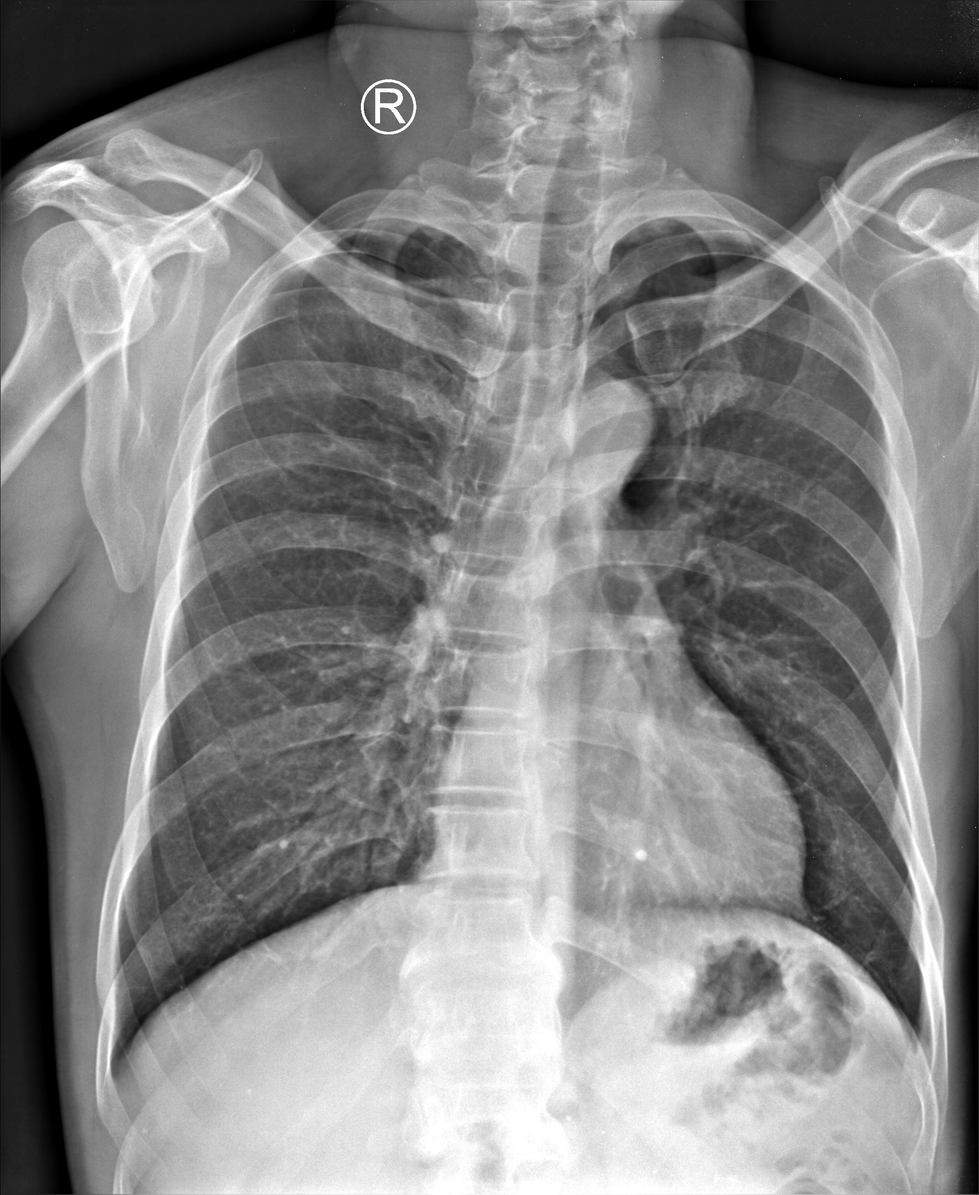Pleural thickening: (314, 217, 476, 250)
